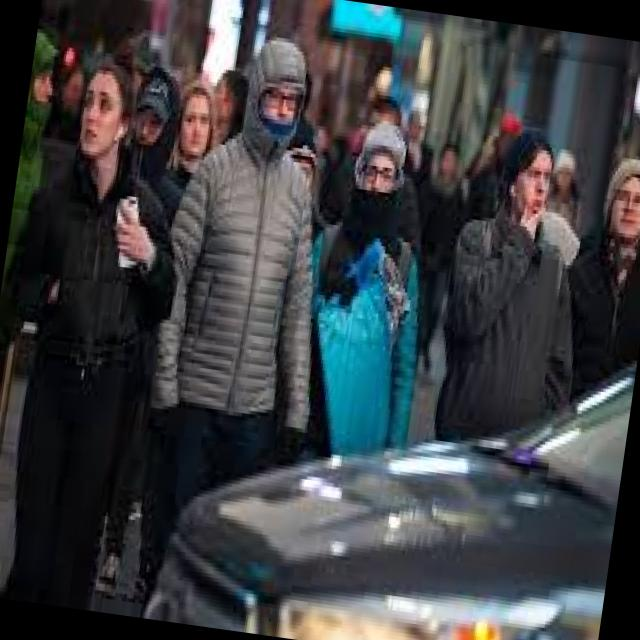Jacket: (138, 128, 342, 472), (0, 131, 187, 489), (277, 194, 442, 489), (425, 213, 594, 466), (542, 222, 640, 442)
